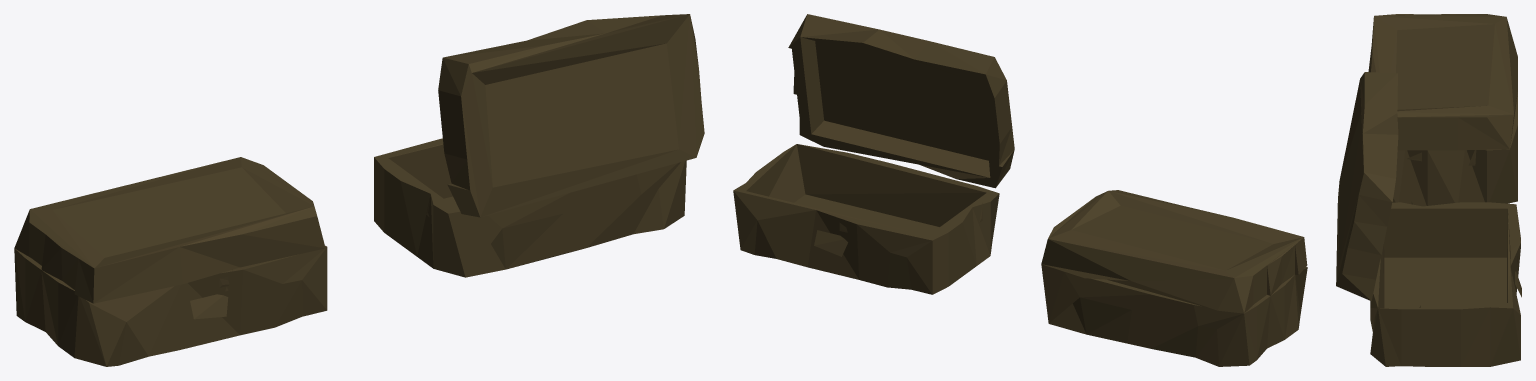
The model's file is container-40.lod1.glb.
3 views of the same model, side by side, from view 1: azimuth 30°, elevation 25°; view 2: azimuth 150°, elevation 25°; view 3: azimuth 270°, elevation 25° (orthographic). The views are drawn at different scales.
Visible parts, largest first — view 1: Case_Texture_0; view 2: Case_Texture_0; view 3: Case_Texture_0.
Boxes of the visible parts, x1=… form: Case_Texture_0: x1=14, y1=14, x2=704, y2=366; Case_Texture_0: x1=733, y1=14, x2=1307, y2=366; Case_Texture_0: x1=1336, y1=14, x2=1521, y2=366.
Bounding box in the file's own units: 11.97 × 4.16 × 3.54.
